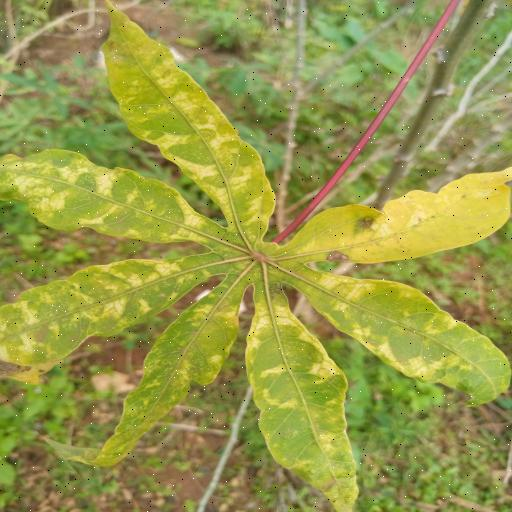Cassava_Mosaic: (5, 2, 512, 512)
